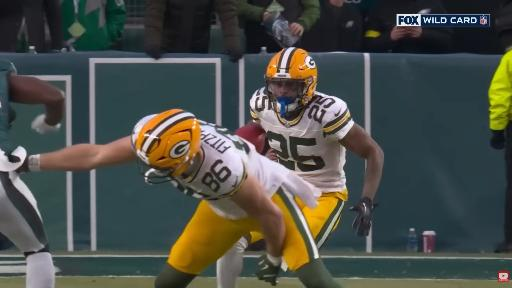Helmet: (132, 109, 200, 177), (266, 48, 317, 117)
Jersey: (171, 121, 321, 219), (250, 88, 354, 192), (0, 60, 16, 155)
Player: (24, 110, 339, 287), (249, 48, 383, 247), (0, 60, 64, 287)
